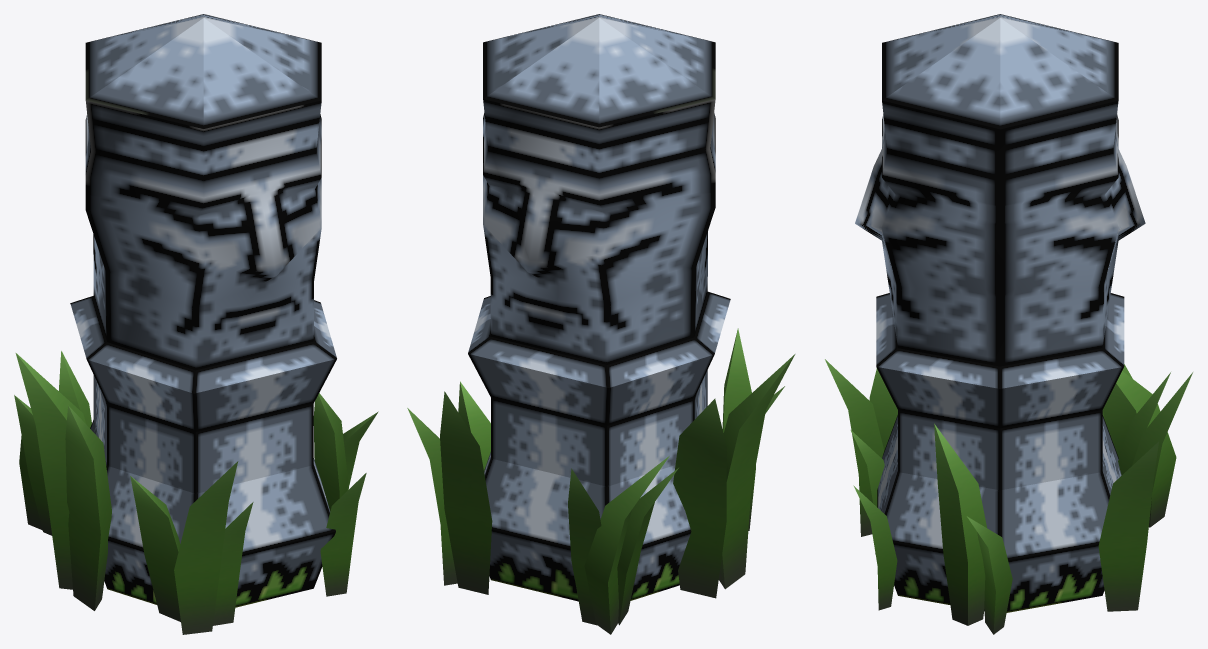
Rendered from deco_statueBig_grass.FBX.
3 renders of one model, left to right at view 1: azimuth 30°, elevation 25°; view 2: azimuth 150°, elevation 25°; view 3: azimuth 270°, elevation 25°, orthographic.
Parts seen in each view (by area): view 1: deco_statueBig_grass; view 2: deco_statueBig_grass; view 3: deco_statueBig_grass.
Boxes of the visible parts, x1,y1,x2,y2 form: deco_statueBig_grass: (14, 14, 378, 634); deco_statueBig_grass: (407, 14, 795, 634); deco_statueBig_grass: (825, 14, 1192, 634).
Bounding box in the file's own units: 2.07 × 3.38 × 2.03.
1 material, 1 textured.
